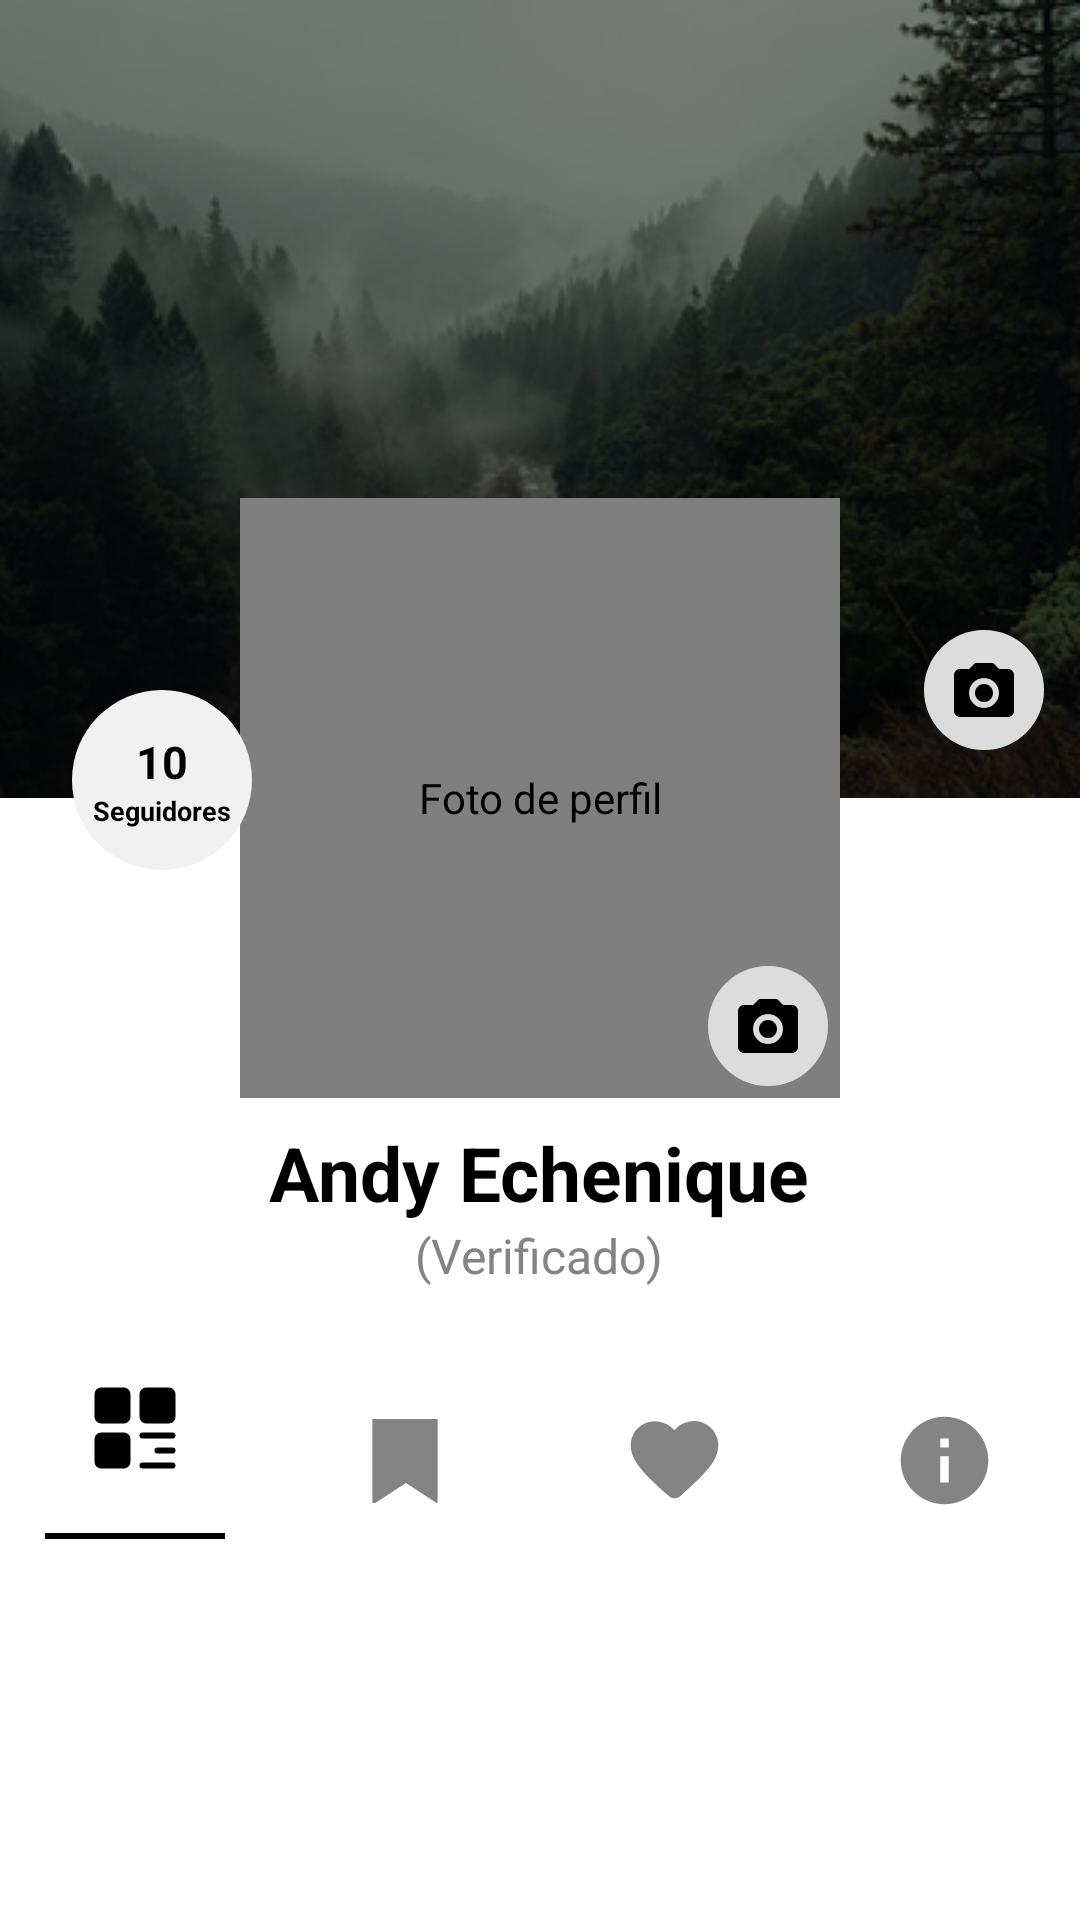

Icon bounding boxes for this 1080px x 1920px phone screenshot, format (x1, y1, x2, y2):
favoritos: (630, 1421, 719, 1499)
info: (900, 1416, 989, 1505)
publicaciones: (94, 1387, 176, 1469)
